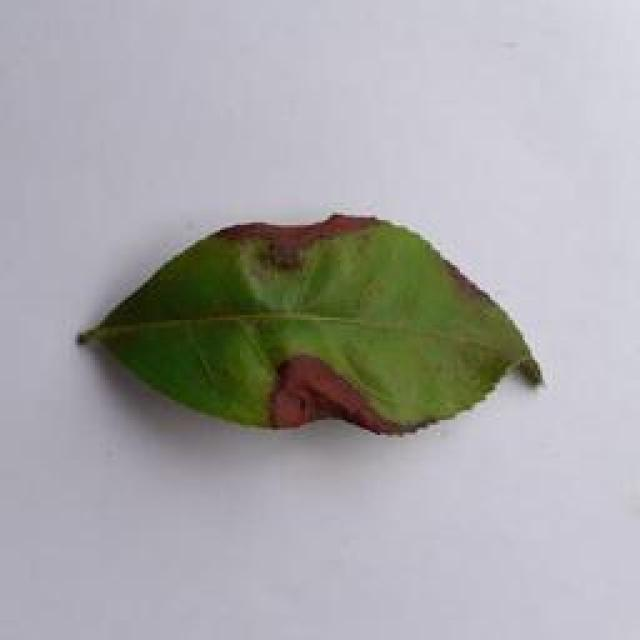Red Leaf Spot: (51, 208, 560, 444)
